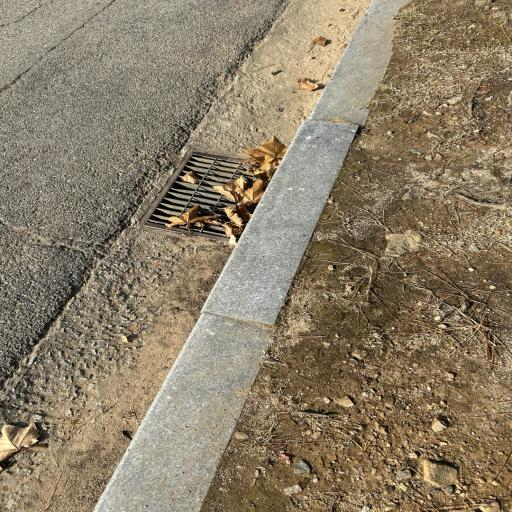debris: (181, 171, 198, 186), (161, 190, 166, 197), (185, 158, 189, 162), (151, 207, 154, 212)
drain: (144, 149, 279, 236)
